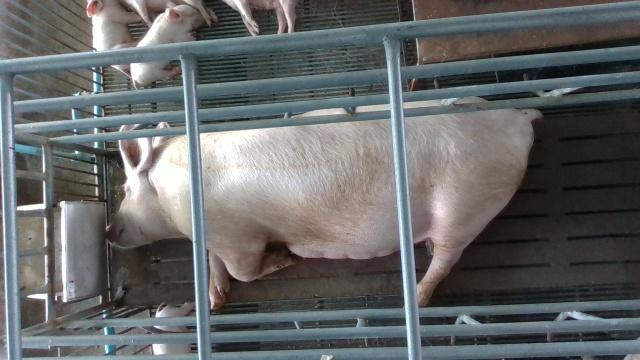piglet: (132, 0, 204, 90), (88, 0, 142, 70), (152, 301, 196, 354)
sow-sleep: (102, 94, 546, 309)
